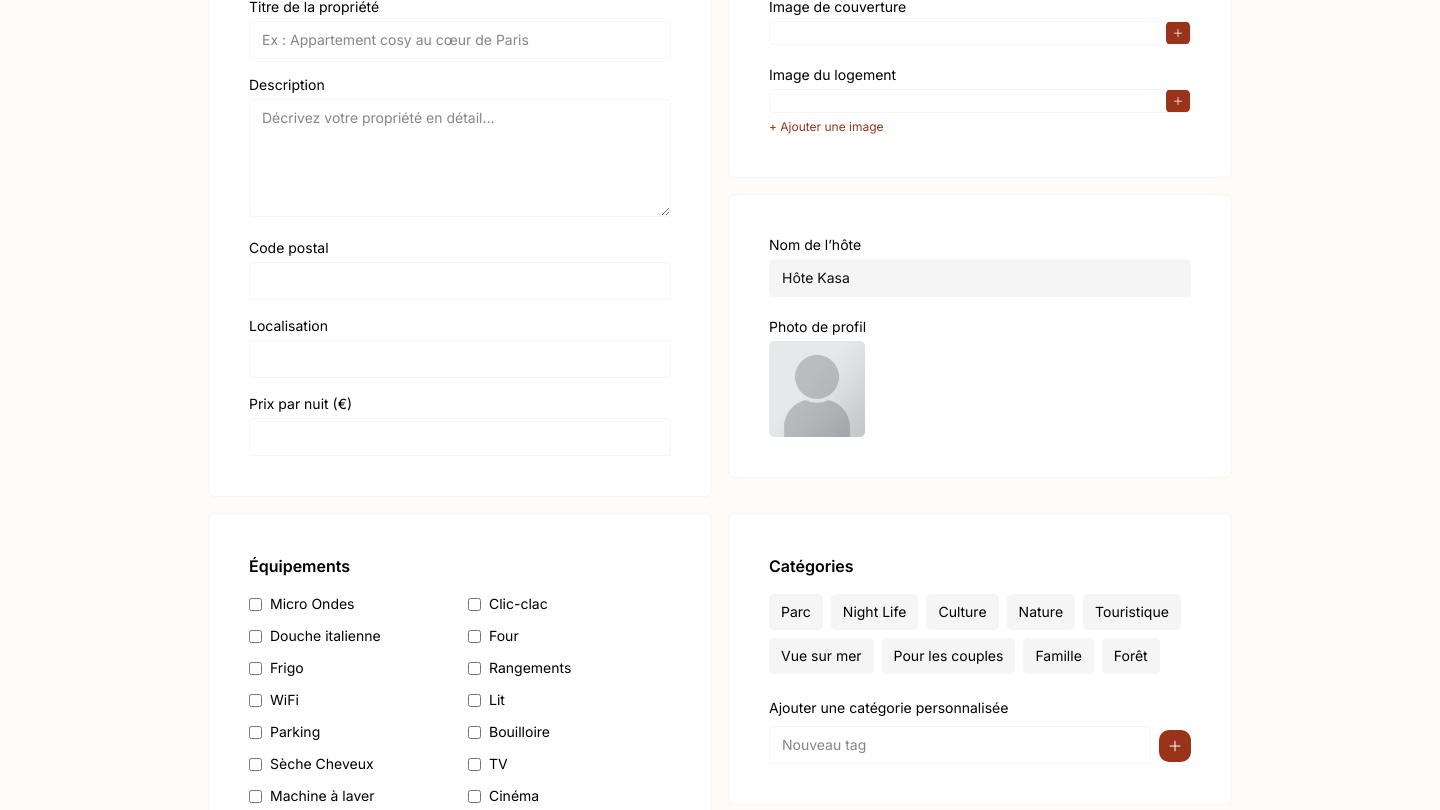
Test: CreatePropertyForm › blocks submission without equipment and clears the error when selected
(page scrolled)
Submit the form named "WiFi"
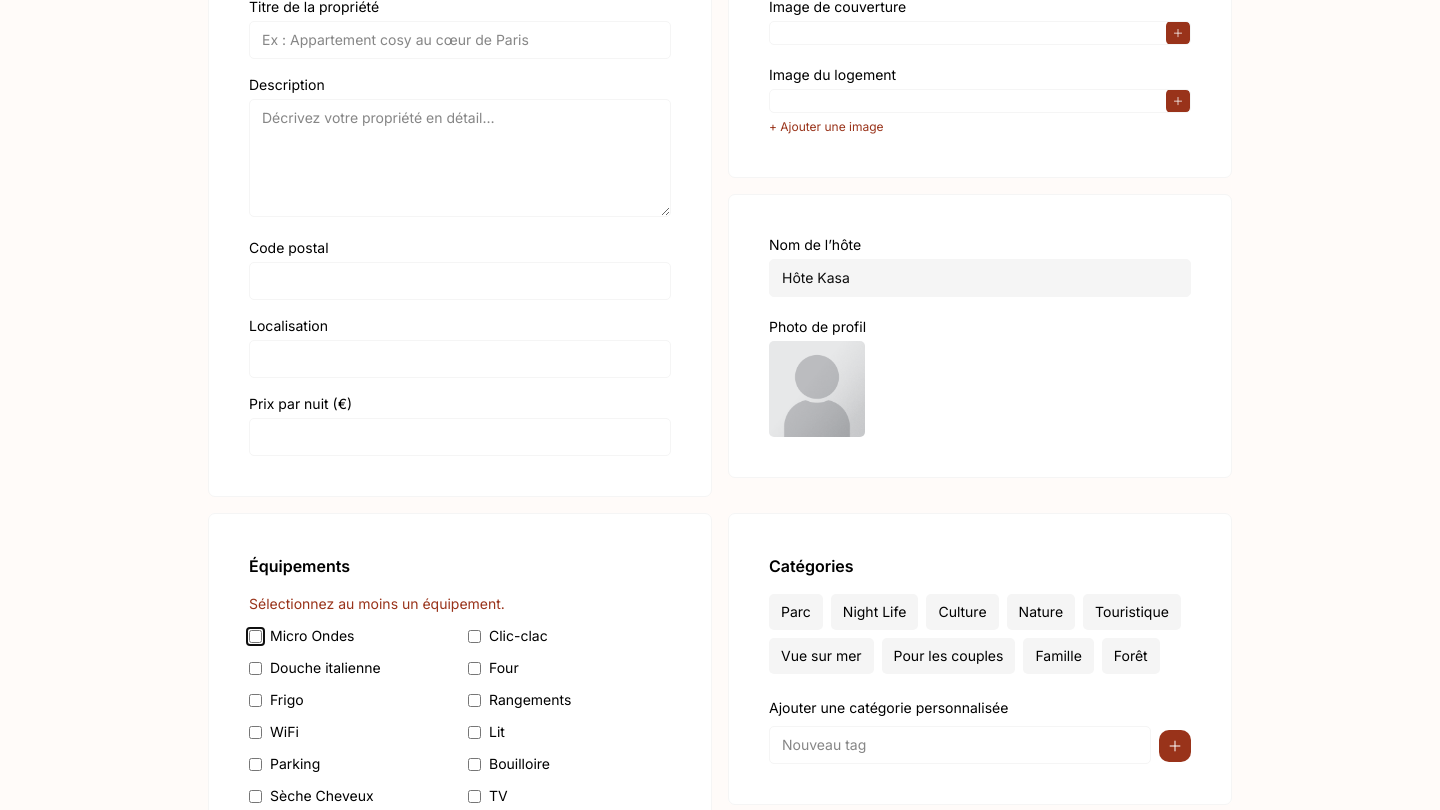
Expected: the message reads "Sélectionnez au moins un équipement.", x1=249 y1=595 x2=505 y2=612
Click the checkbox labelled "WiFi" at [256, 732], box x1=249 y1=726 x2=262 y2=738
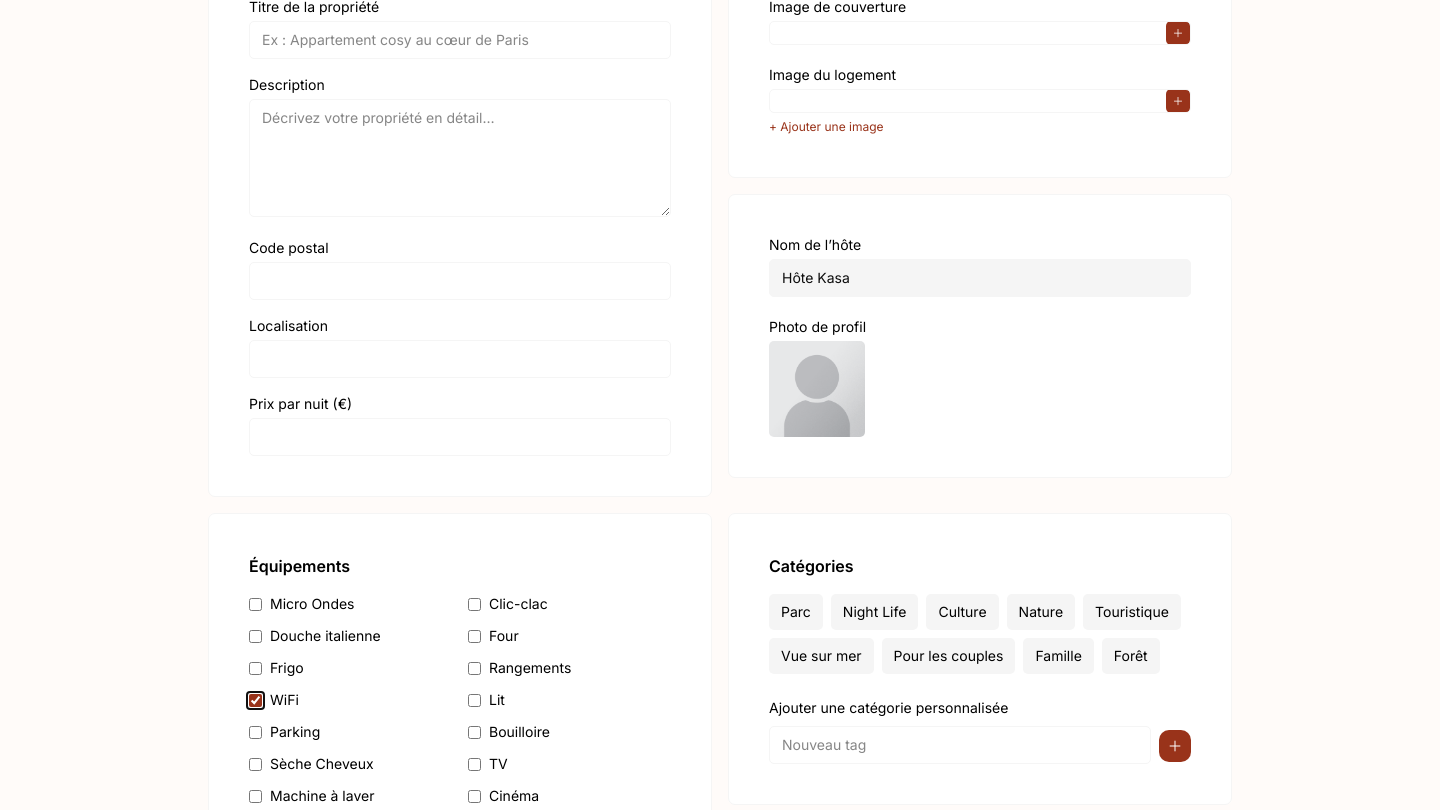
Expected: the message "Sélectionnez au moins un équipement." is gone
